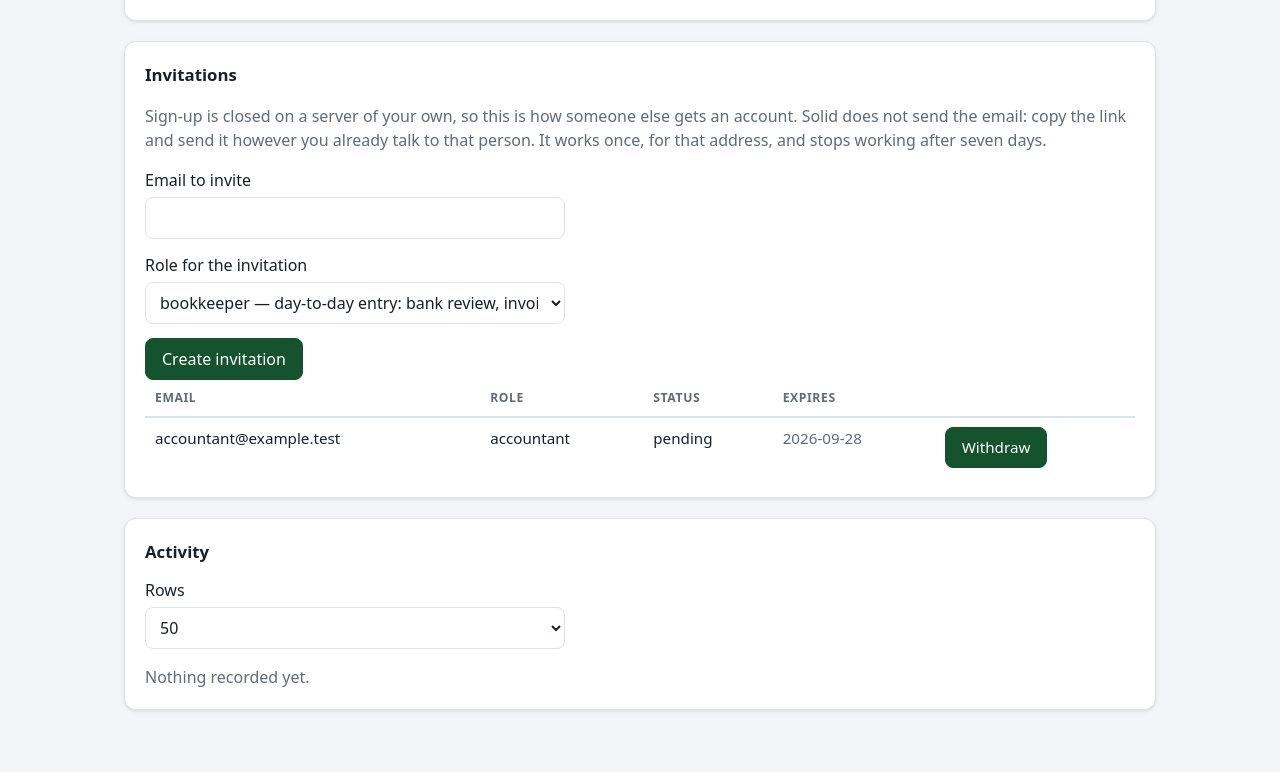
it: spec 065: fourth review › row 19: withdrawing an invitation that fails says so instead of doing nothing
(page scrolled)
Click the button "Withdraw". click: [996, 447]
box: [945,427,1047,468]
(page scrolled)
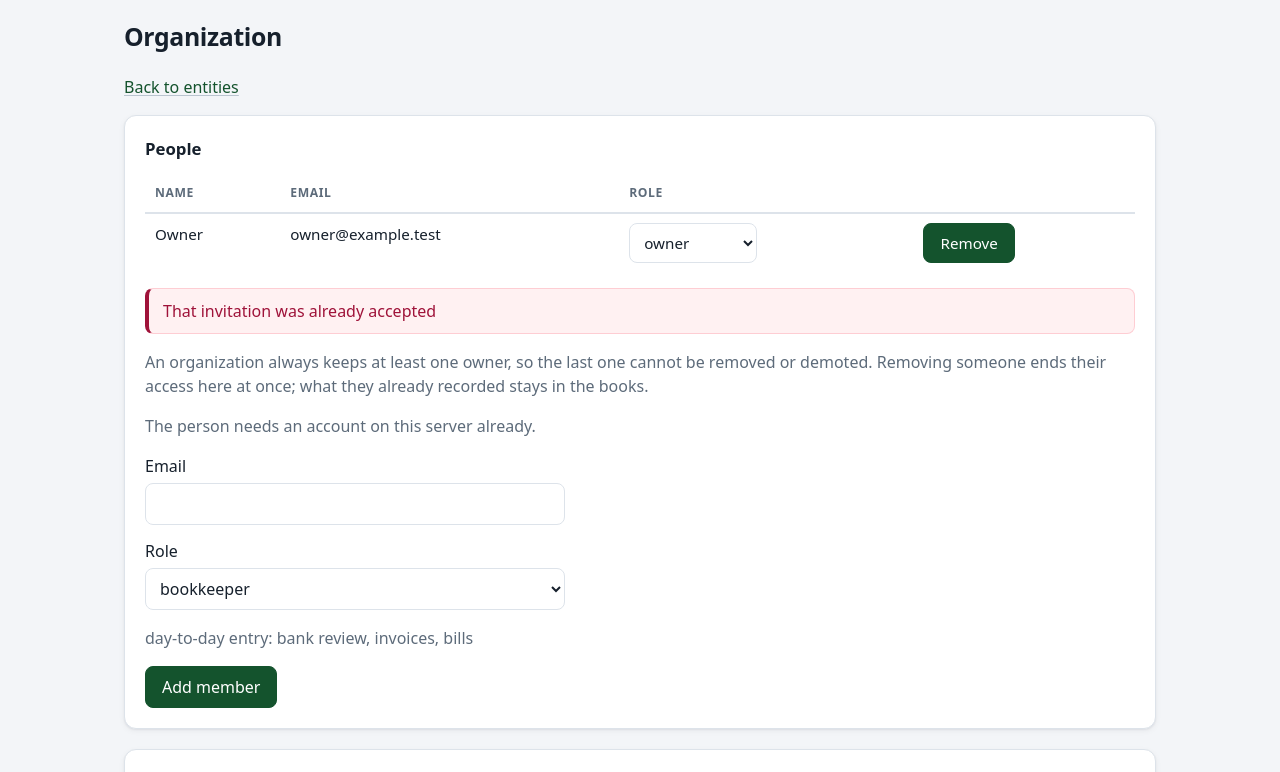
Now the text "That invitation was already accepted" is shown, box [145,288,1135,334]
